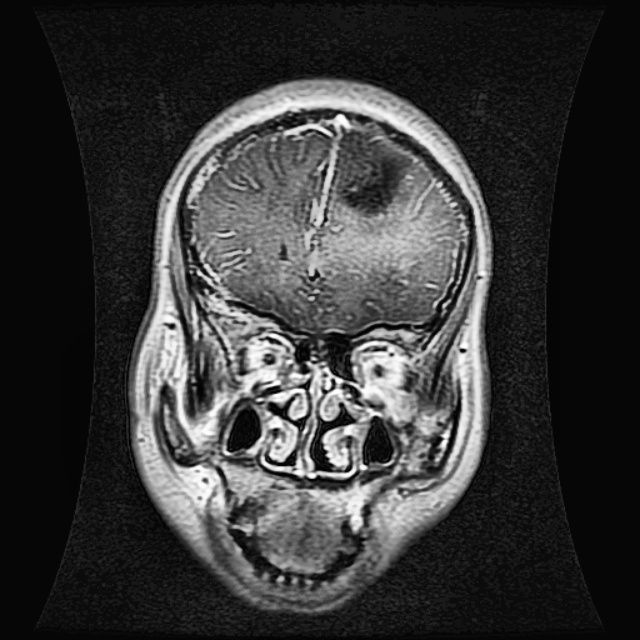Meningioma: (334, 130, 414, 217)
